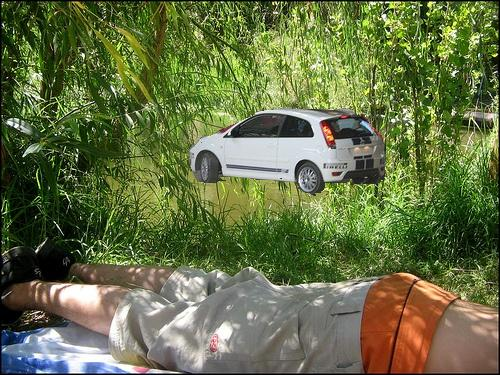tampered: (190, 109, 385, 196)
